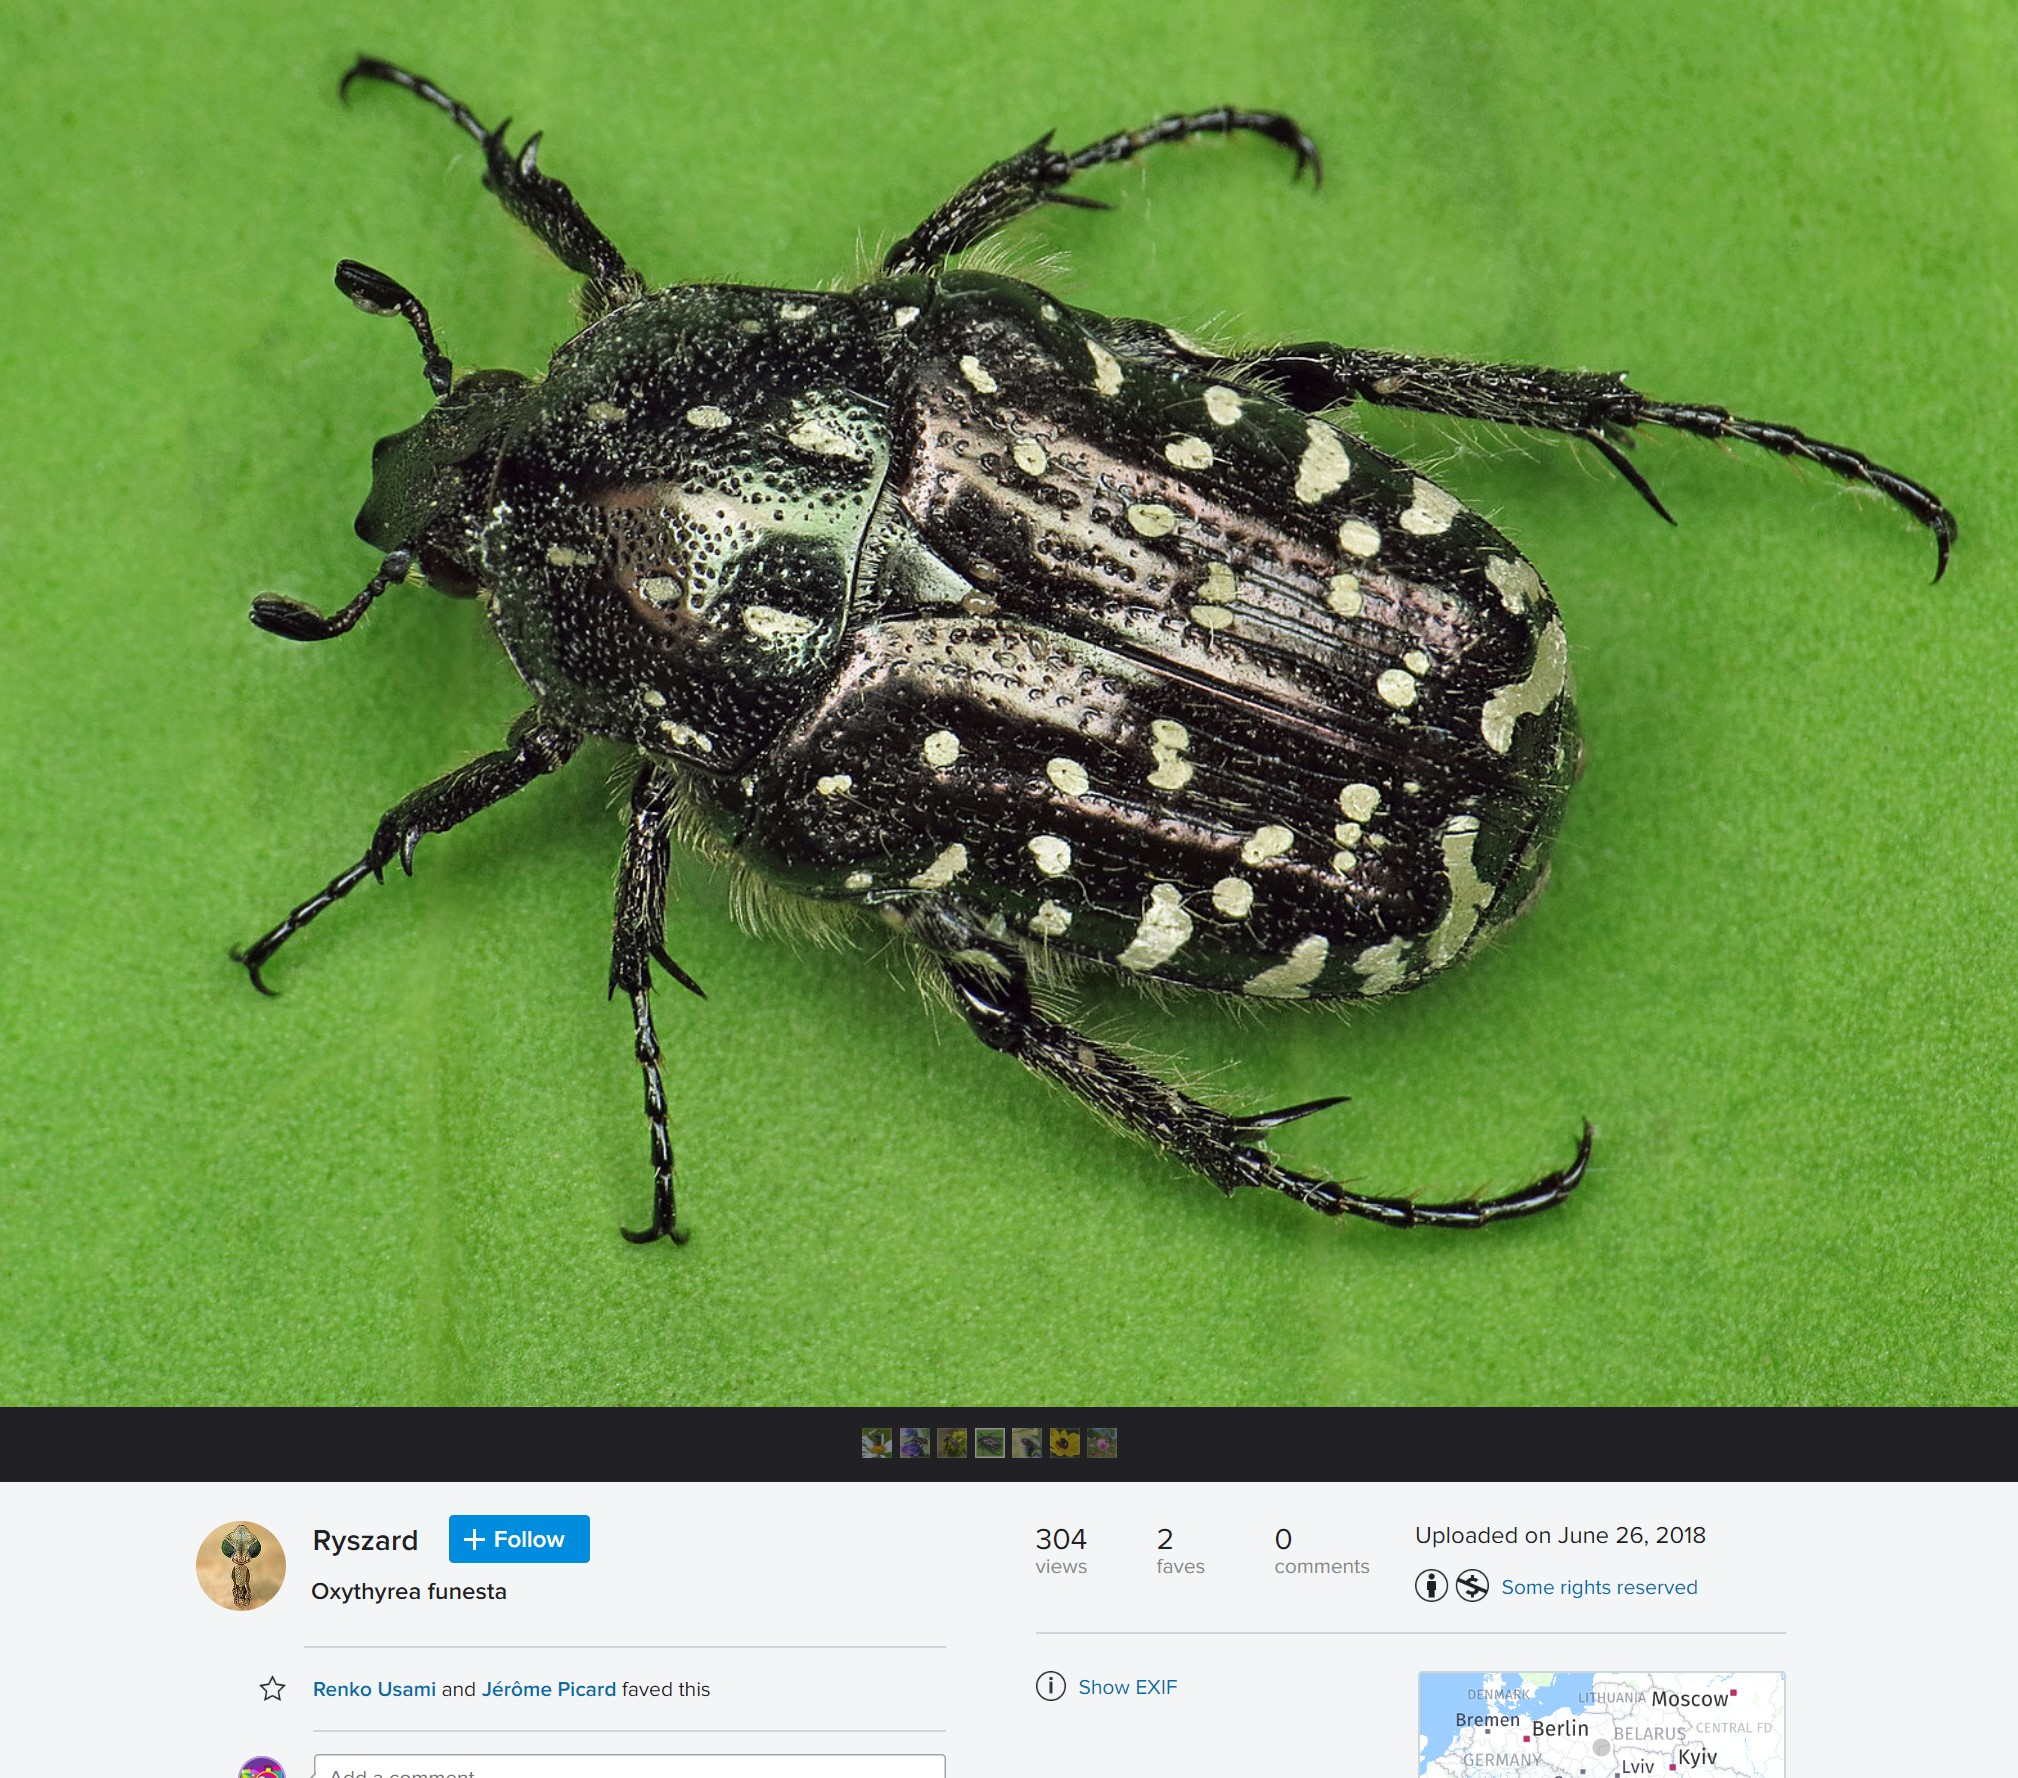Oxythyrea_funesta: (201, 26, 1996, 1268)
